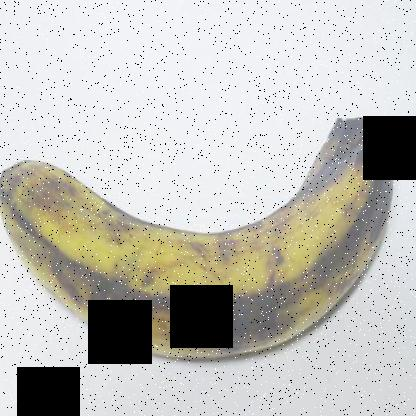overripe: (0, 82, 410, 382)
